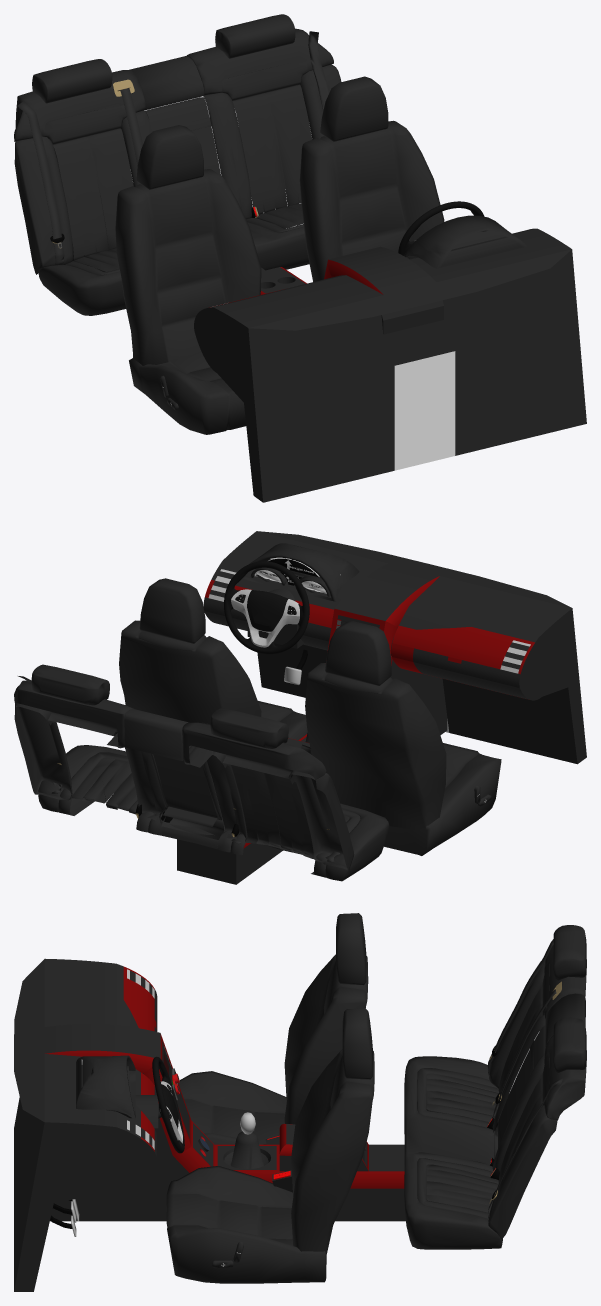
Rendered from car-interior.obj.
3 renders of one model, top to bottom at view 1: azimuth 30°, elevation 25°; view 2: azimuth 150°, elevation 25°; view 3: azimuth 270°, elevation 25°, orthographic. The views are drawn at different scales.
Parts seen in each view (by area): view 1: Group_001, banco_002, banco_001, Group_051, Group_050, Group_036, Group_046, Group_052, Group_040, Group_056, Group_004, Group_010 (+13 smaller); view 2: Group_001, banco_002, banco_001, Group_004, Group_050, Group_036, Group_052, Group_055, Group_040, Group_051, Group_032, Group_037 (+15 smaller); view 3: Group_001, Group_004, Group_031, banco_001, Group_052, banco_002, Group_036, Group_050, Group_051, Group_010, Group_057, Group_037 (+13 smaller).
Part boxes in pixels (x1=…): Group_001: x1=194, y1=228, x2=586, y2=502; banco_002: x1=115, y1=169, x2=261, y2=365; banco_001: x1=299, y1=120, x2=444, y2=281; Group_051: x1=232, y1=84, x2=312, y2=232; Group_050: x1=53, y1=128, x2=133, y2=274; Group_036: x1=129, y1=352, x2=246, y2=434; Group_046: x1=186, y1=28, x2=333, y2=100; Group_052: x1=38, y1=222, x2=309, y2=315; Group_040: x1=14, y1=70, x2=145, y2=144; Group_056: x1=14, y1=136, x2=73, y2=274; Group_004: x1=261, y1=246, x2=443, y2=334; Group_010: x1=404, y1=215, x2=527, y2=268; Group_001: x1=203, y1=531, x2=586, y2=764; banco_002: x1=305, y1=663, x2=446, y2=832; banco_001: x1=119, y1=620, x2=261, y2=772; Group_004: x1=177, y1=563, x2=447, y2=884; Group_050: x1=230, y1=765, x2=360, y2=877; Group_036: x1=384, y1=743, x2=501, y2=855; Group_052: x1=38, y1=745, x2=389, y2=881; Group_055: x1=107, y1=729, x2=246, y2=840; Group_040: x1=182, y1=722, x2=326, y2=779; Group_051: x1=58, y1=752, x2=153, y2=832; Group_032: x1=139, y1=578, x2=205, y2=643; Group_037: x1=325, y1=621, x2=391, y2=685; Group_001: x1=14, y1=958, x2=157, y2=1291; Group_004: x1=44, y1=1024, x2=447, y2=1221; Group_031: x1=166, y1=1166, x2=326, y2=1283; banco_001: x1=291, y1=1049, x2=374, y2=1257; Group_052: x1=404, y1=1056, x2=502, y2=1249; banco_002: x1=284, y1=954, x2=368, y2=1124; Group_036: x1=178, y1=1071, x2=286, y2=1144; Group_050: x1=417, y1=987, x2=542, y2=1127; Group_051: x1=417, y1=1077, x2=542, y2=1218; Group_010: x1=76, y1=1055, x2=135, y2=1119; Group_057: x1=488, y1=1105, x2=557, y2=1238; Group_037: x1=336, y1=913, x2=366, y2=985.
Size of the model in its own units: 64.02 by 43.6 by 92.76.
